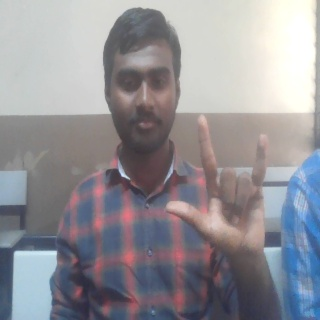Face: (101, 6, 183, 158)
I Love You: (163, 113, 281, 264)
